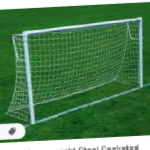goals: (6, 16, 149, 124)
